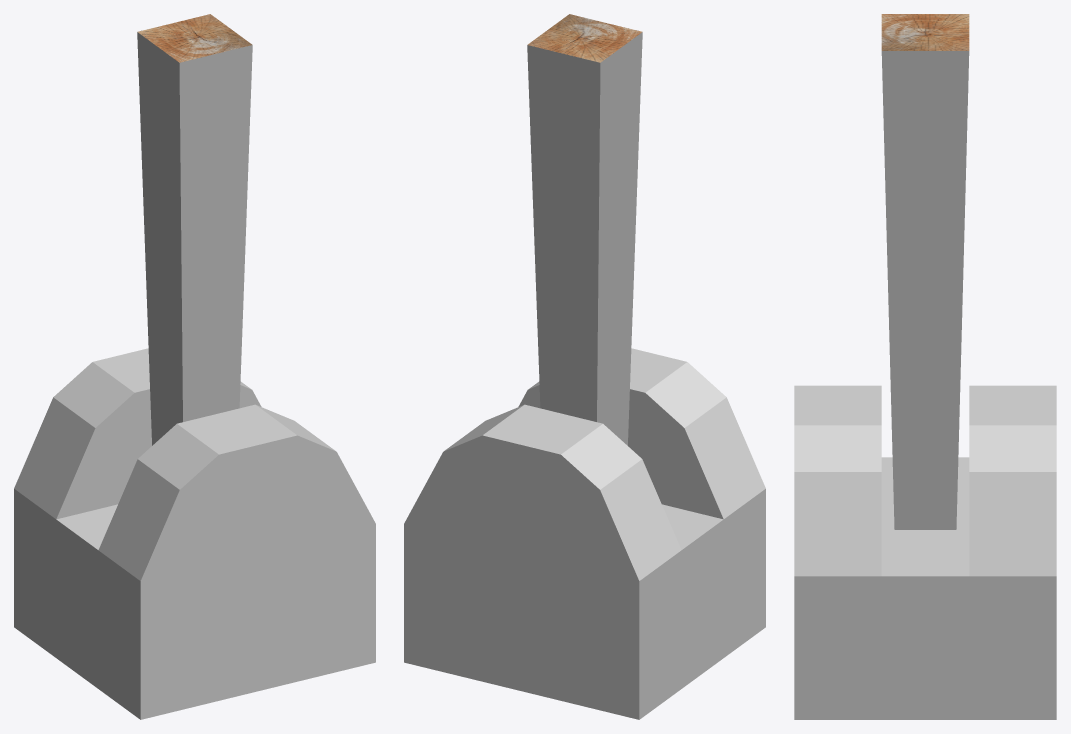
File: lever.fbx
3 renders of one model, left to right at view 1: azimuth 30°, elevation 25°; view 2: azimuth 150°, elevation 25°; view 3: azimuth 270°, elevation 25°, orthographic. The views are drawn at different scales.
Parts seen in each view (by area): view 1: LeverBox, Lever; view 2: LeverBox, Lever; view 3: LeverBox, Lever.
Boxes of the visible parts, x1=… form: LeverBox: x1=14, y1=348, x2=375, y2=719; Lever: x1=137, y1=14, x2=252, y2=445; LeverBox: x1=404, y1=348, x2=765, y2=719; Lever: x1=527, y1=14, x2=642, y2=445; LeverBox: x1=794, y1=385, x2=1056, y2=719; Lever: x1=881, y1=14, x2=969, y2=529.
Size of the model in its own units: 200 by 493 by 186.
